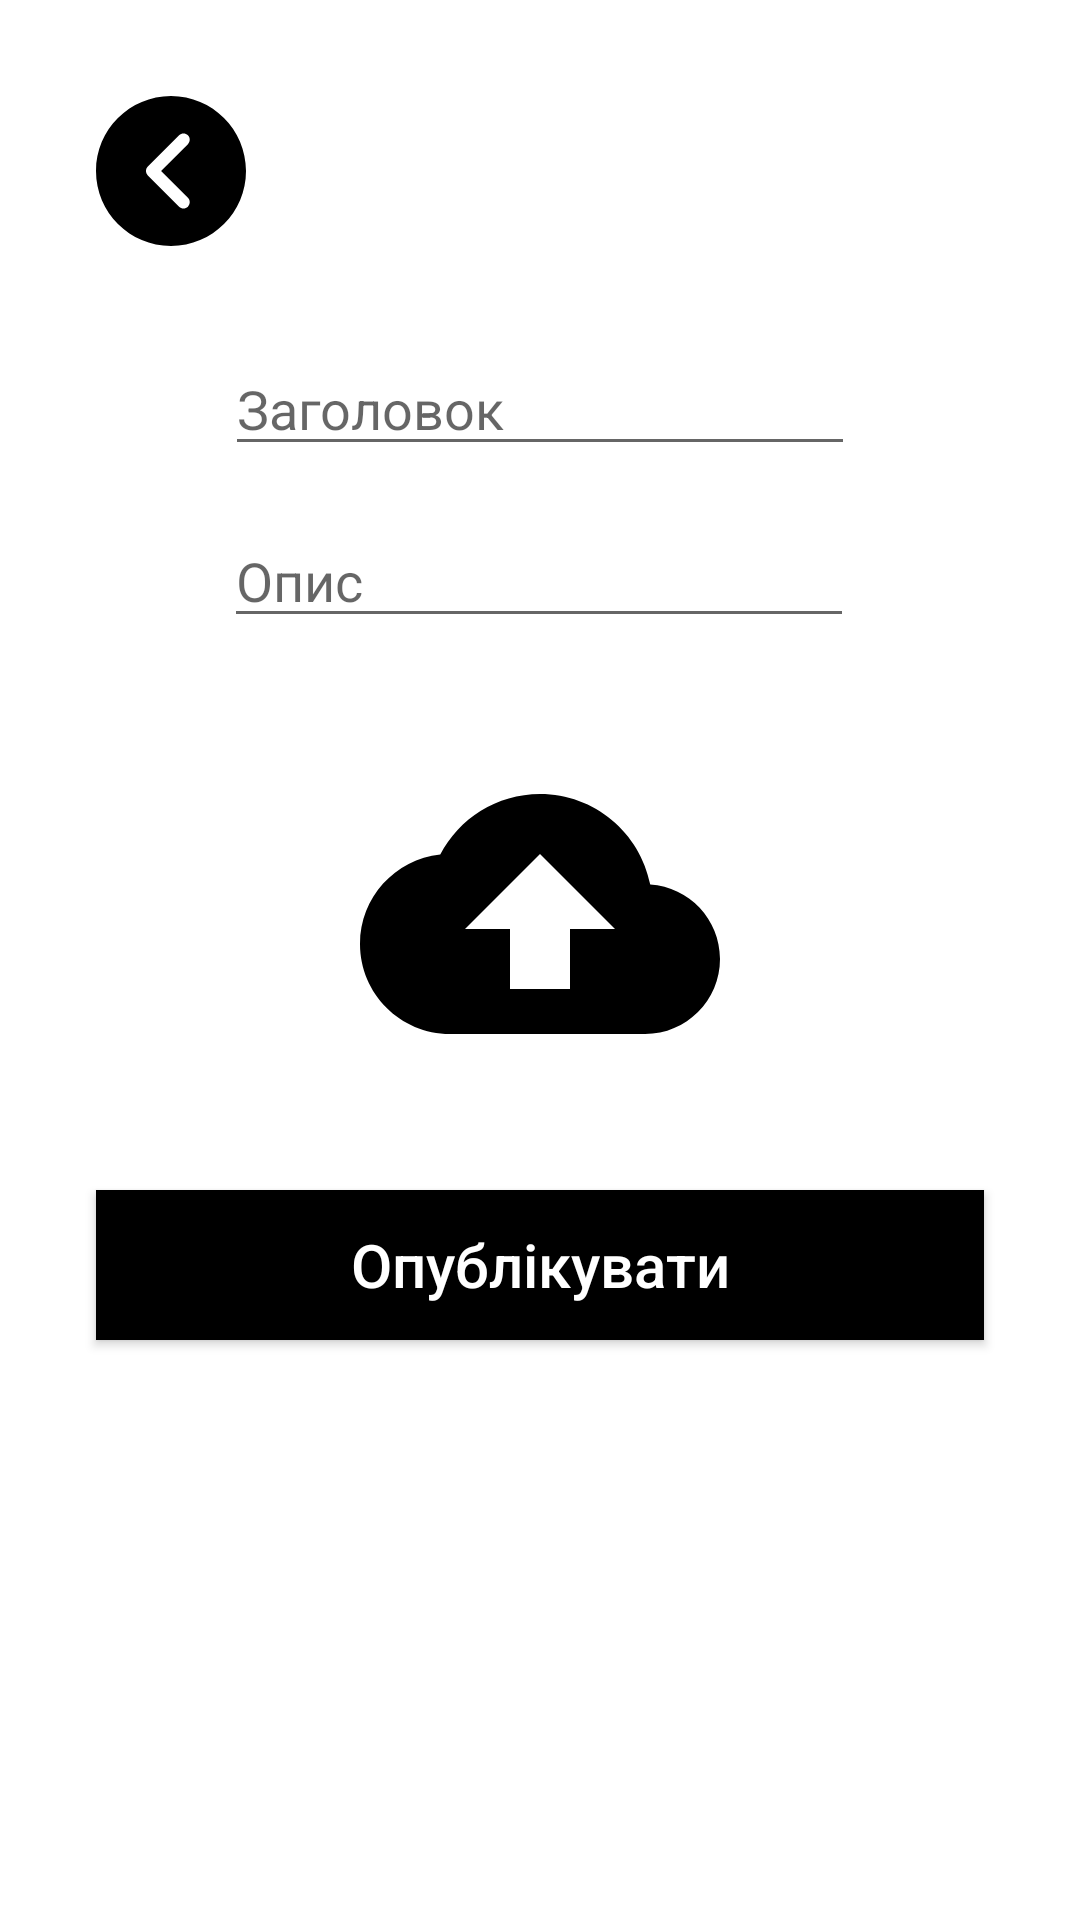

Icons on this 1080 × 1920 Android screen, each with its box as (x1=x1, y1=y1, x2=x2, y2=y2):
left arrow: (x1=96, y1=96, x2=246, y2=246)
upload: (x1=360, y1=794, x2=720, y2=1034)
